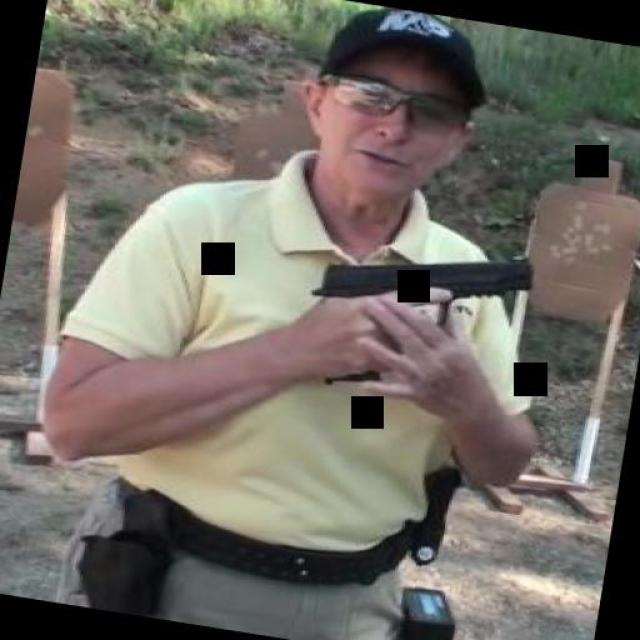gun: (296, 224, 534, 406)
